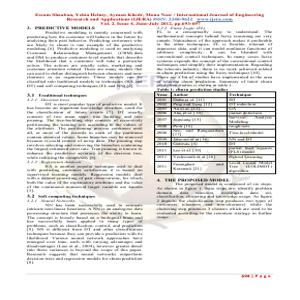table: (151, 90, 278, 176)
text: (24, 25, 147, 267), (153, 26, 274, 87), (151, 176, 274, 225), (31, 10, 272, 25)
